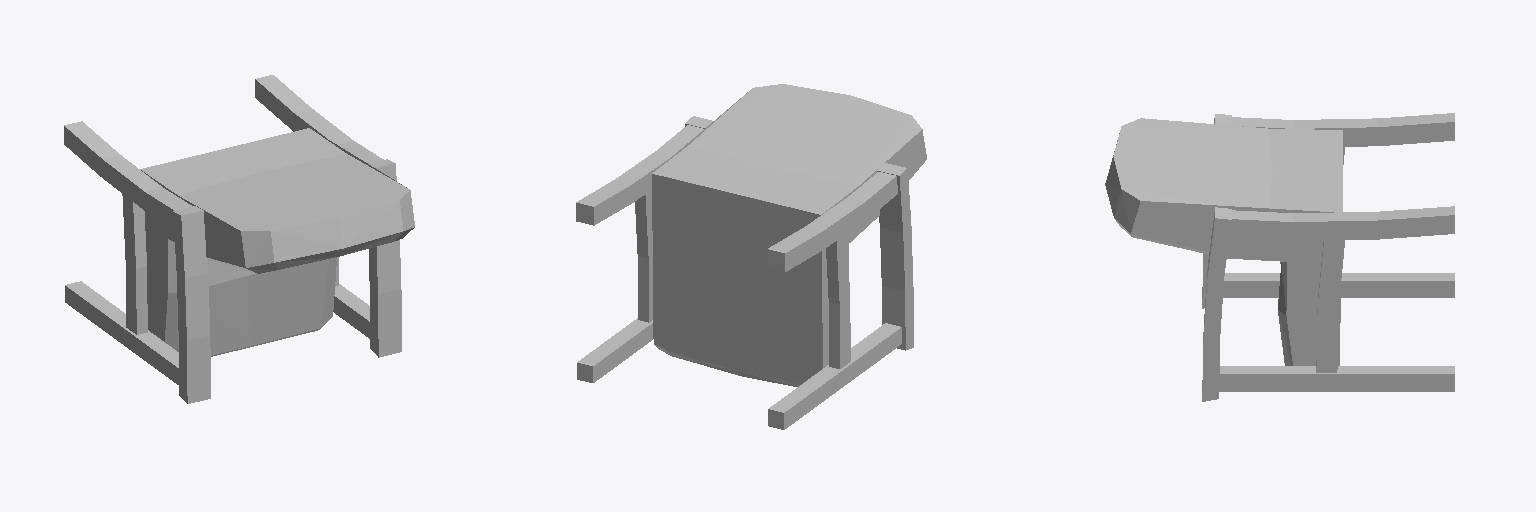
Rendered from Chair.obj.
3 views of the same model, side by side, from view 1: azimuth 30°, elevation 25°; view 2: azimuth 150°, elevation 25°; view 3: azimuth 270°, elevation 25° (orthographic).
Visible parts, largest first — view 1: Chair; view 2: Chair; view 3: Chair.
Boxes of the visible parts, x1,y1,x2,y2 form: Chair: [64, 75, 414, 403]; Chair: [576, 84, 926, 429]; Chair: [1105, 113, 1454, 401].
Bounding box in the file's own units: 70.83 × 62.78 × 99.98.